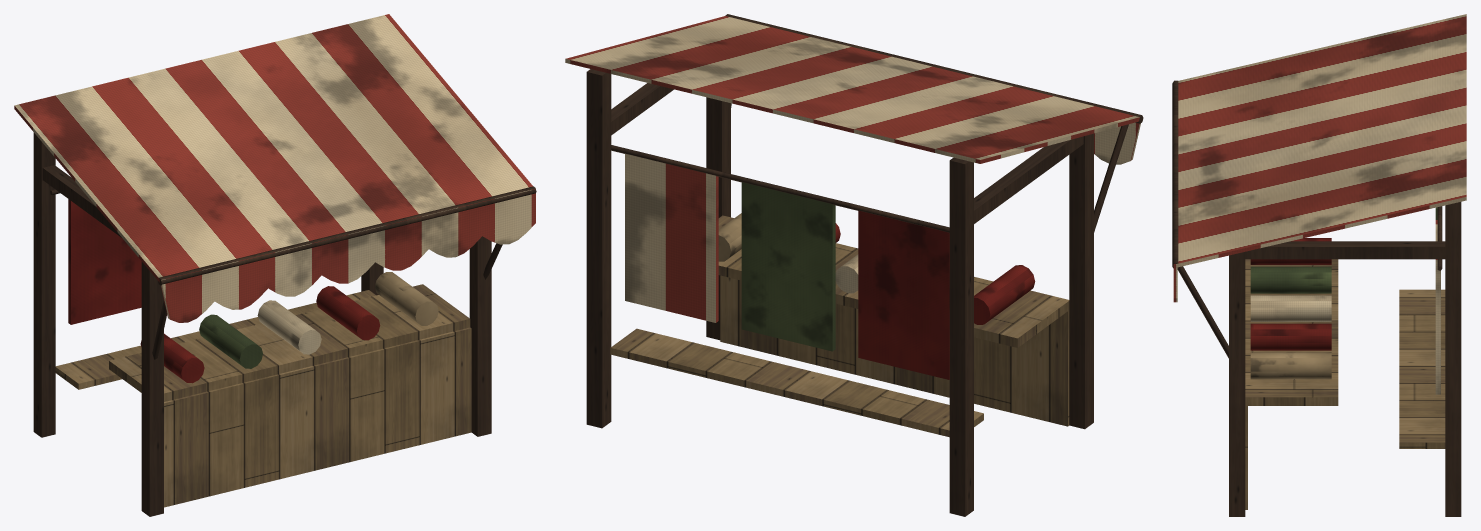
The model's file is market_stall_cloth.gltf.
The picture shows the model from 3 angles, left to right: view 1: azimuth 30°, elevation 25°; view 2: azimuth 150°, elevation 25°; view 3: azimuth 270°, elevation 25°; orthographic projection. The views are drawn at different scales.
Parts seen in each view (by area): view 1: INT_stall_cloth; view 2: INT_stall_cloth; view 3: INT_stall_cloth.
Part boxes in pixels (left/top/right/bottom): INT_stall_cloth: left=14, top=14, right=536, bottom=516; INT_stall_cloth: left=565, top=14, right=1143, bottom=516; INT_stall_cloth: left=1172, top=14, right=1466, bottom=516.
Size of what is drawn, in the model's own units: 3.2 by 2.68 by 2.18.
7 materials, 7 textured.
